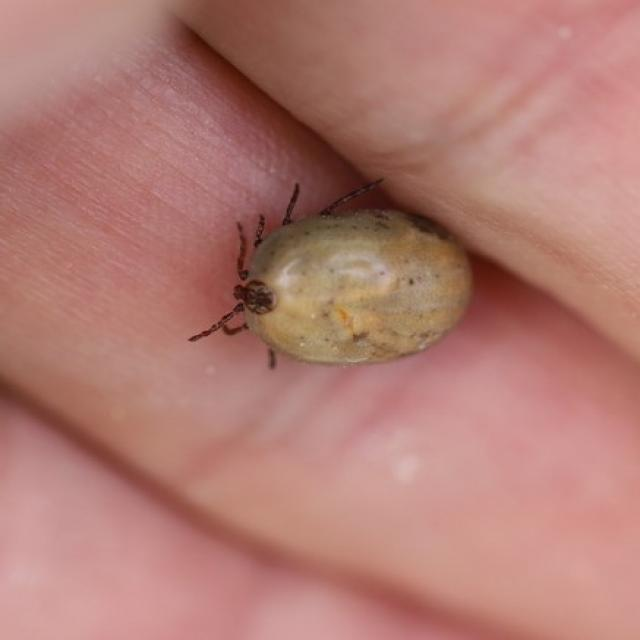Dermacentor Reticulatus-F-Fed: (187, 179, 473, 372)
